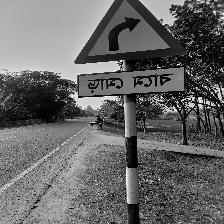Left-Turn: (74, 0, 189, 99), (122, 0, 184, 54), (73, 0, 123, 64)
